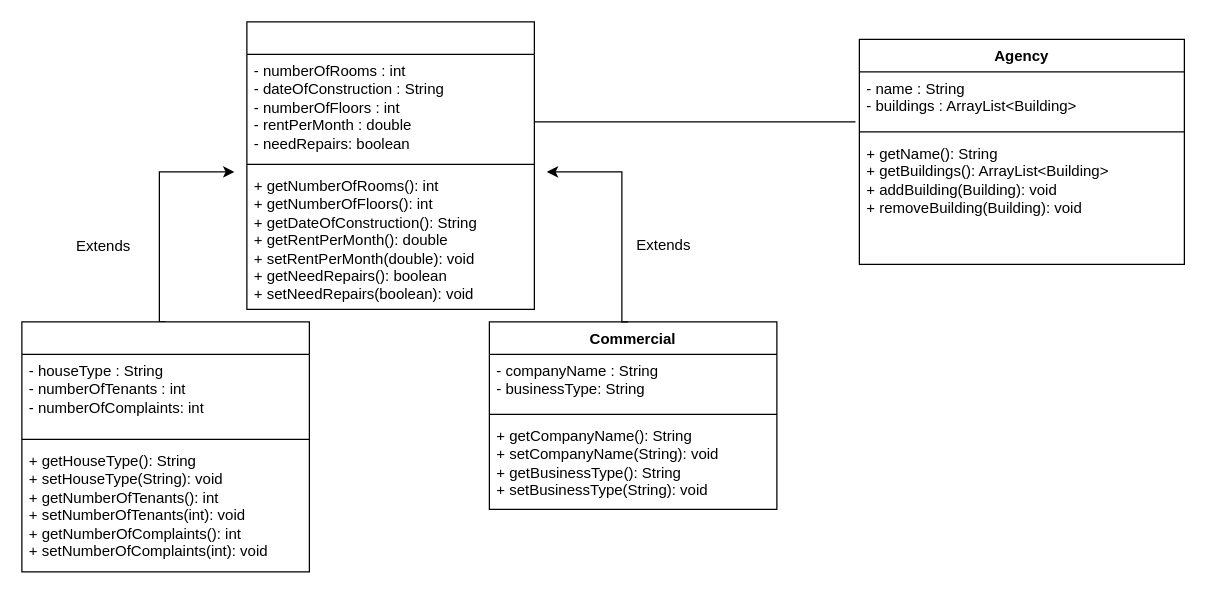
This 1206x598 diagram has some shape labels left out. The shapes that lost their labels are listed below. From the top down, each one's box as (x1, y1, x2, y2) in pixels, then its label:
(246, 21, 534, 309): <<Building>>
(21, 321, 309, 572): Residential
